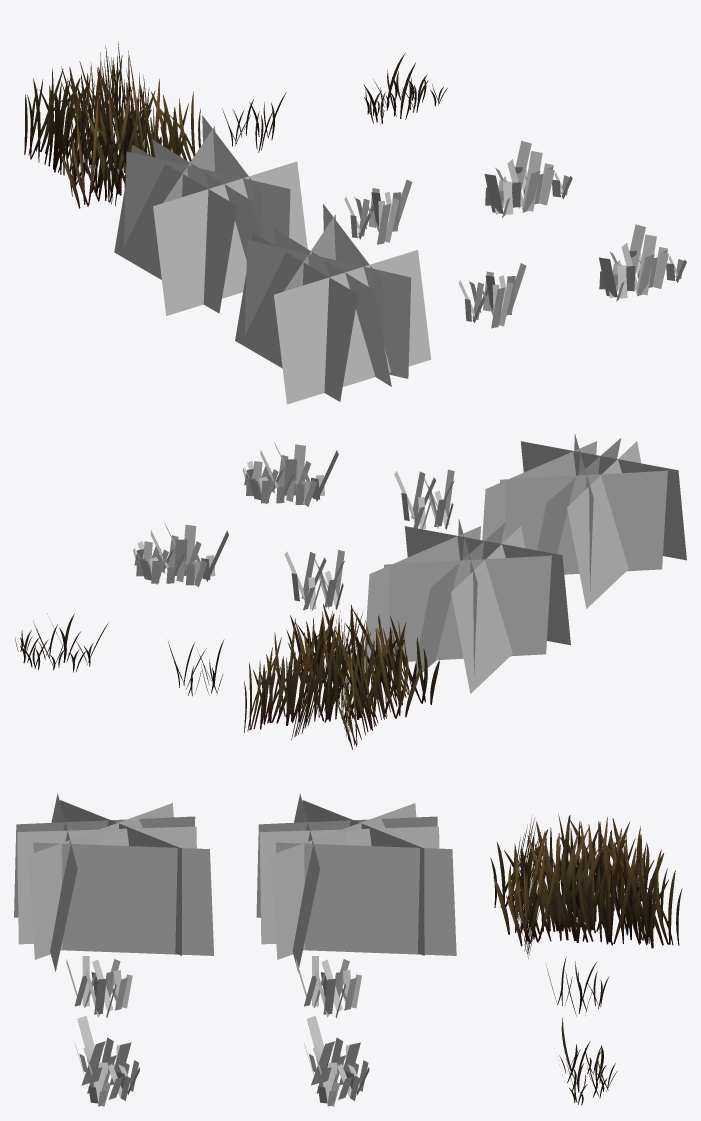
Rendered from grass_pack.dae.
3 views of the same model, one above another, from view 1: azimuth 30°, elevation 25°; view 2: azimuth 150°, elevation 25°; view 3: azimuth 270°, elevation 25° (orthographic). The views are drawn at different scales.
Visible parts, largest first — view 1: green_tall_patch, mid_tall_patch, yellow_tall_patch, green_alpha_tall_grass.032, green_alpha_tall_grass.000, green_alpha_tall_grass.001, green_alpha_tall_grass.039, green_alpha_tall_grass.002, green_alpha_tall_grass.003; view 2: mid_tall_patch, green_tall_patch, yellow_tall_patch, green_alpha_tall_grass.000, green_alpha_tall_grass.032, green_alpha_tall_grass.001, green_alpha_tall_grass.039, green_alpha_tall_grass.002, green_alpha_tall_grass.003; view 3: green_tall_patch, mid_tall_patch, yellow_tall_patch, green_alpha_tall_grass.032, green_alpha_tall_grass.000, green_alpha_tall_grass.039, green_alpha_tall_grass.001, green_alpha_tall_grass.002, green_alpha_tall_grass.003.
Part boxes in pixels (x1,y1,x2,y2): green_tall_patch: (235,204,430,404); mid_tall_patch: (114,115,307,315); yellow_tall_patch: (24,41,200,208); green_alpha_tall_grass.032: (599,224,686,301); green_alpha_tall_grass.000: (484,141,572,217); green_alpha_tall_grass.001: (344,179,412,244); green_alpha_tall_grass.039: (458,263,526,328); green_alpha_tall_grass.002: (363,53,447,124); green_alpha_tall_grass.003: (222,92,286,152); mid_tall_patch: (364,519,570,693); green_tall_patch: (482,434,686,608); yellow_tall_patch: (244,604,439,749); green_alpha_tall_grass.000: (133,522,228,587); green_alpha_tall_grass.032: (243,442,338,506); green_alpha_tall_grass.001: (284,550,344,611); green_alpha_tall_grass.039: (394,469,454,529); green_alpha_tall_grass.002: (15,613,108,672); green_alpha_tall_grass.003: (168,639,224,696); green_tall_patch: (14,794,213,971); mid_tall_patch: (256,793,456,972); yellow_tall_patch: (490,814,682,958); green_alpha_tall_grass.032: (75,1015,139,1106); green_alpha_tall_grass.000: (304,1015,369,1106); green_alpha_tall_grass.039: (66,956,132,1018); green_alpha_tall_grass.001: (295,956,361,1018); green_alpha_tall_grass.002: (559,1017,617,1105); green_alpha_tall_grass.003: (546,957,609,1016).
Bounding box in the file's own units: 2.78 × 3.74 × 0.7667.
